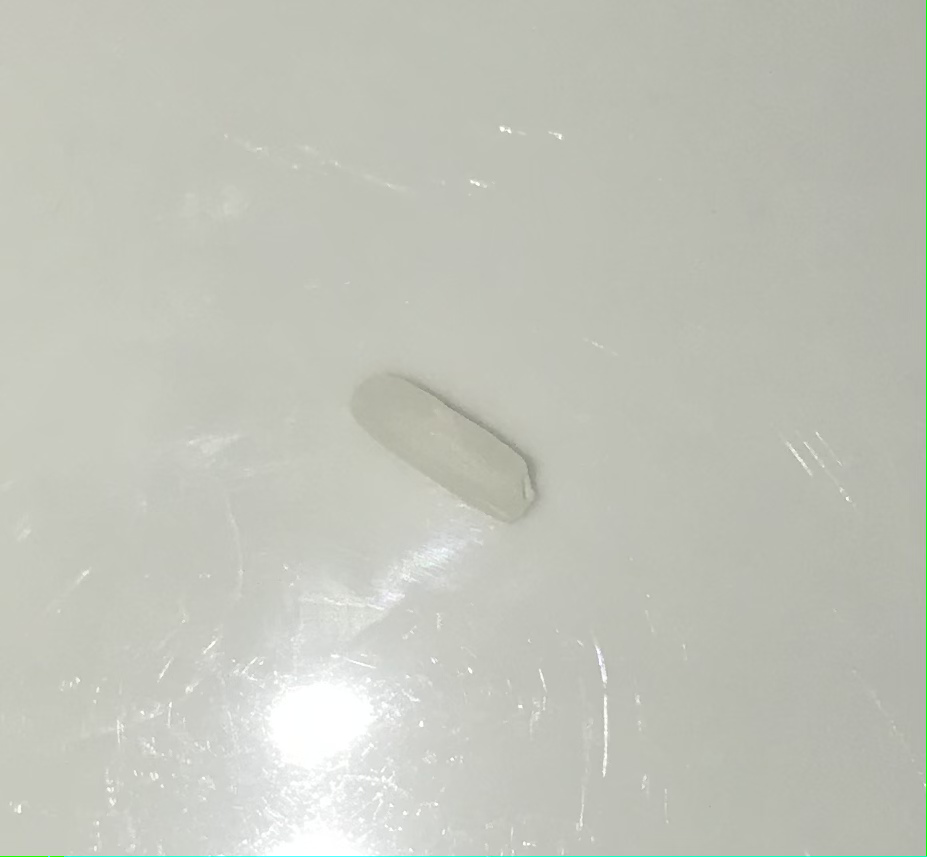Gao Thom Go Cong: (330, 348, 550, 530)
